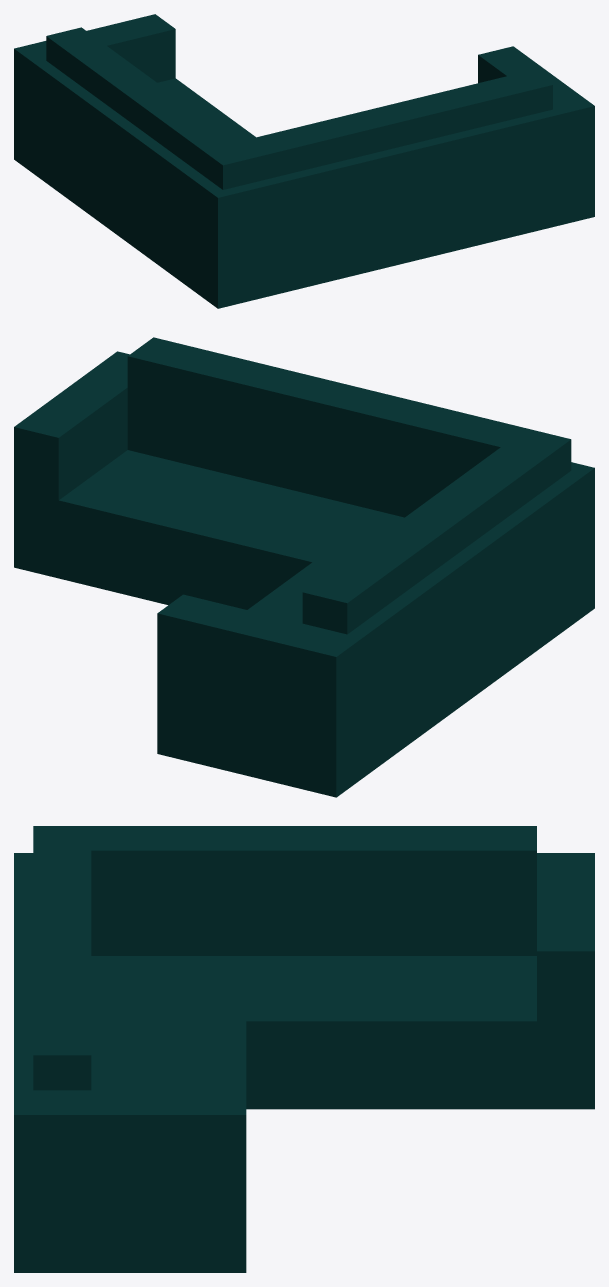
Rendered from dice_2og-35-green_sofa.obj.
3 renders of one model, top to bottom at view 1: azimuth 30°, elevation 25°; view 2: azimuth 150°, elevation 25°; view 3: azimuth 270°, elevation 25°, orthographic. The views are drawn at different scales.
Parts seen in each view (by area): view 1: green_sofa; view 2: green_sofa; view 3: green_sofa.
Part boxes in pixels (box(x1,y1,x2,y2)): green_sofa: box(14, 14, 594, 308); green_sofa: box(14, 337, 594, 797); green_sofa: box(14, 826, 594, 1272).
Size of the model in its own units: 3.2 by 1.1 by 3.
1 material, 1 textured.
